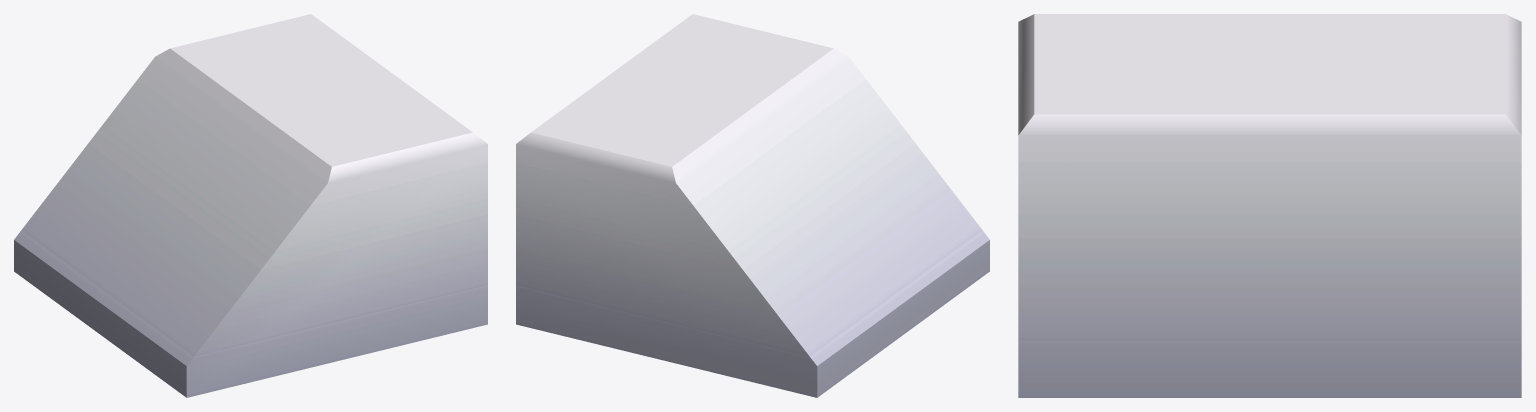
The model's file is none-hq-brick-slope-2x2.glb.
The picture shows the model from 3 angles, left to right: view 1: azimuth 30°, elevation 25°; view 2: azimuth 150°, elevation 25°; view 3: azimuth 270°, elevation 25°; orthographic projection. The views are drawn at different scales.
Parts seen in each view (by area): view 1: none-hq-brick-slope-2x2; view 2: none-hq-brick-slope-2x2; view 3: none-hq-brick-slope-2x2.
Part boxes in pixels (x1,y1,x2,y2): none-hq-brick-slope-2x2: [14, 14, 487, 397]; none-hq-brick-slope-2x2: [516, 14, 989, 397]; none-hq-brick-slope-2x2: [1018, 14, 1521, 397].
Size of the model in its own units: 0.159 by 0.096 by 0.158.
Materials: 1 (1 with a texture image).
